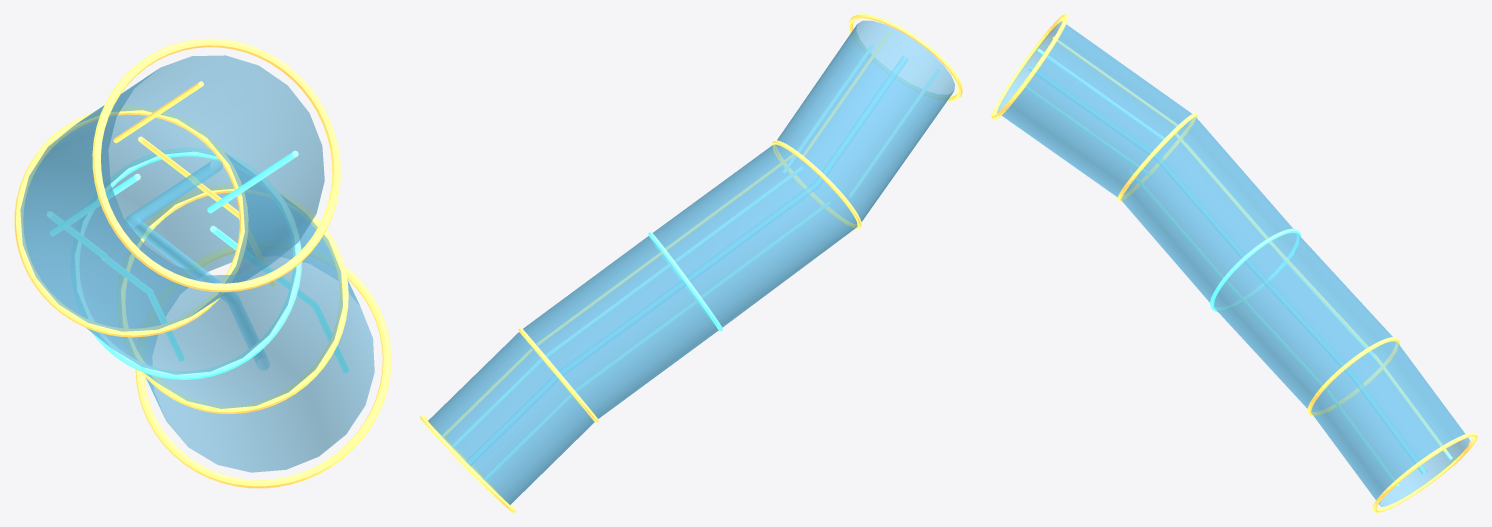
File: neo_tokyo_ascent_tube.glb
3 views of the same model, side by side, from view 1: azimuth 30°, elevation 25°; view 2: azimuth 150°, elevation 25°; view 3: azimuth 270°, elevation 25° (orthographic). The views are drawn at different scales.
Parts seen in each view (by area): view 1: ascent_tube_outer_visible_shell, ascent_tube_structural_rib.004, ascent_tube_structural_rib.003, ascent_tube_structural_rib, ascent_tube_structural_rib.002, ascent_tube_structural_rib.001, ascent_tube_centerline_guide, ascent_tube_longitudinal_rail.010, ascent_tube_longitudinal_rail.009, ascent_tube_longitudinal_rail.011, ascent_tube_longitudinal_rail.006, ascent_tube_longitudinal_rail.008 (+1 smaller); view 2: ascent_tube_outer_visible_shell, ascent_tube_centerline_guide, ascent_tube_structural_rib.004, ascent_tube_structural_rib.003, ascent_tube_structural_rib, ascent_tube_structural_rib.002, ascent_tube_structural_rib.001; view 3: ascent_tube_outer_visible_shell, ascent_tube_centerline_guide, ascent_tube_structural_rib, ascent_tube_structural_rib.004, ascent_tube_structural_rib.002, ascent_tube_structural_rib.001, ascent_tube_structural_rib.003.
Part boxes in pixels (x1,y1,x2,y2): ascent_tube_outer_visible_shell: (20,55,374,472); ascent_tube_structural_rib.004: (92,38,340,292); ascent_tube_structural_rib.003: (14,106,248,337); ascent_tube_structural_rib: (135,245,391,488); ascent_tube_structural_rib.002: (71,148,301,379); ascent_tube_structural_rib.001: (117,184,348,413); ascent_tube_centerline_guide: (125,159,269,369); ascent_tube_longitudinal_rail.010: (207,150,298,213); ascent_tube_longitudinal_rail.009: (49,173,140,236); ascent_tube_longitudinal_rail.011: (113,81,203,143); ascent_tube_longitudinal_rail.006: (47,211,107,259); ascent_tube_longitudinal_rail.008: (138,136,197,183); ascent_tube_outer_visible_shell: (428,20,954,504); ascent_tube_centerline_guide: (466,56,907,465); ascent_tube_structural_rib.004: (848,14,962,100); ascent_tube_structural_rib.003: (772,140,861,228); ascent_tube_structural_rib: (420,415,515,512); ascent_tube_structural_rib.002: (648,232,722,331); ascent_tube_structural_rib.001: (518,328,598,422); ascent_tube_outer_visible_shell: (997,21,1470,506); ascent_tube_centerline_guide: (1028,64,1427,474); ascent_tube_structural_rib: (1372,432,1477,512); ascent_tube_structural_rib.004: (991,14,1068,119); ascent_tube_structural_rib.002: (1210,228,1301,311); ascent_tube_structural_rib.001: (1307,337,1399,416); ascent_tube_structural_rib.003: (1117,113,1197,201).
Bounding box in the file's own units: 1530 × 1761 × 1982.
